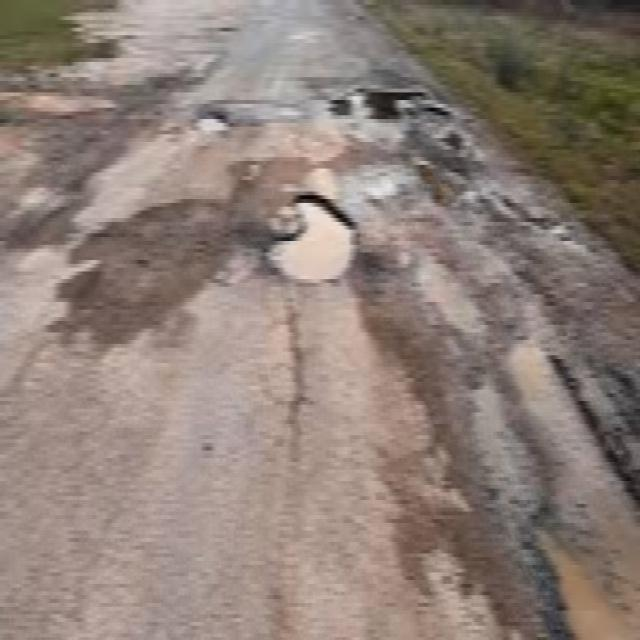Pothole: (499, 318, 640, 640), (257, 186, 378, 304), (0, 76, 137, 126), (324, 84, 458, 134), (182, 100, 240, 145)
